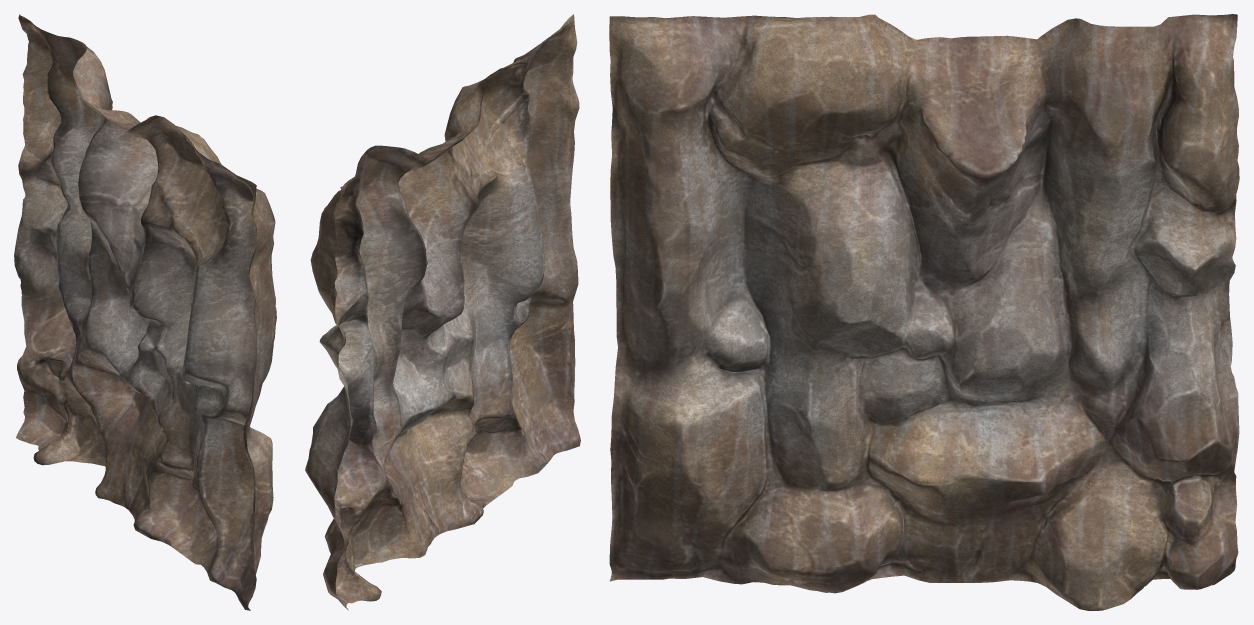
File: cave_ravine_wall_sand_02.dae
3 views of the same model, side by side, from view 1: azimuth 30°, elevation 25°; view 2: azimuth 150°, elevation 25°; view 3: azimuth 270°, elevation 25° (orthographic). The views are drawn at different scales.
Parts seen in each view (by area): view 1: wall_2_low; view 2: wall_2_low; view 3: wall_2_low.
Boxes of the visible parts, left/top/right/bottom form: wall_2_low: left=14, top=14, right=276, bottom=610; wall_2_low: left=305, top=14, right=580, bottom=610; wall_2_low: left=609, top=14, right=1239, bottom=610.
Size of what is drawn, in the model's own units: 0.8649 by 4.02 by 4.02.
